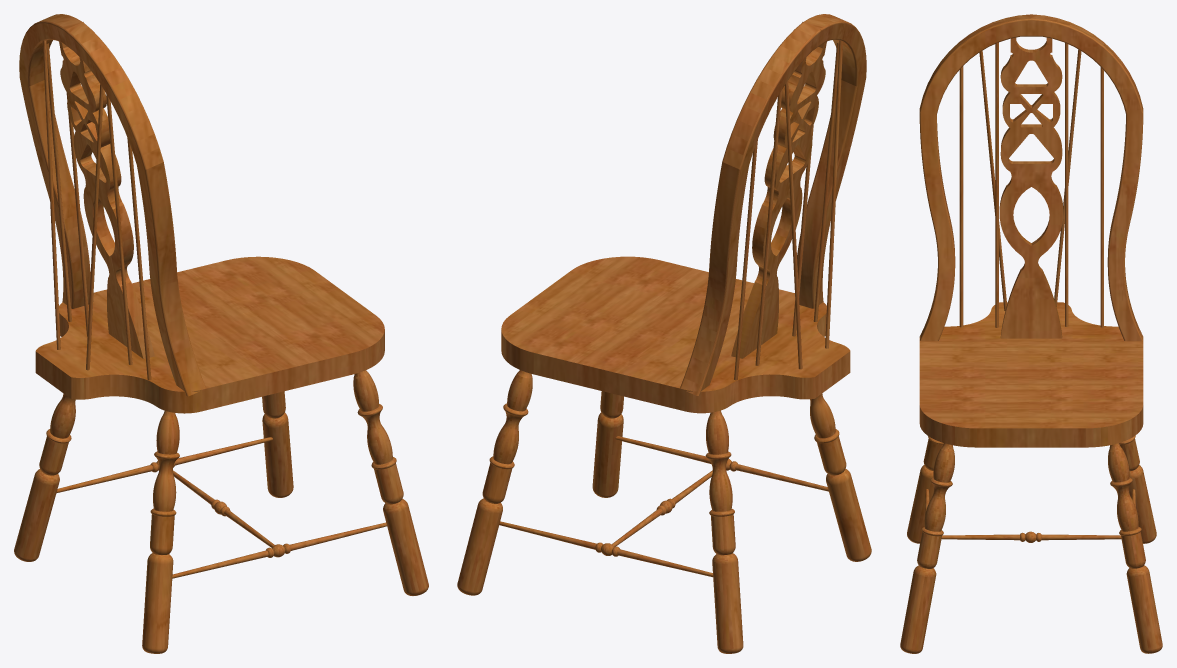
The model's file is cadeira.glb.
The picture shows the model from 3 angles, left to right: view 1: azimuth 30°, elevation 25°; view 2: azimuth 150°, elevation 25°; view 3: azimuth 270°, elevation 25°; orthographic projection. The views are drawn at different scales.
Visible parts, largest first — view 1: root; view 2: root; view 3: root.
Boxes of the visible parts, x1,y1,x2,y2 form: root: (14,14,428,653); root: (457,14,871,653); root: (900,14,1162,653).
Bounding box in the file's own units: 0.5452 × 0.9998 × 0.4577.
1 material, 1 textured.
